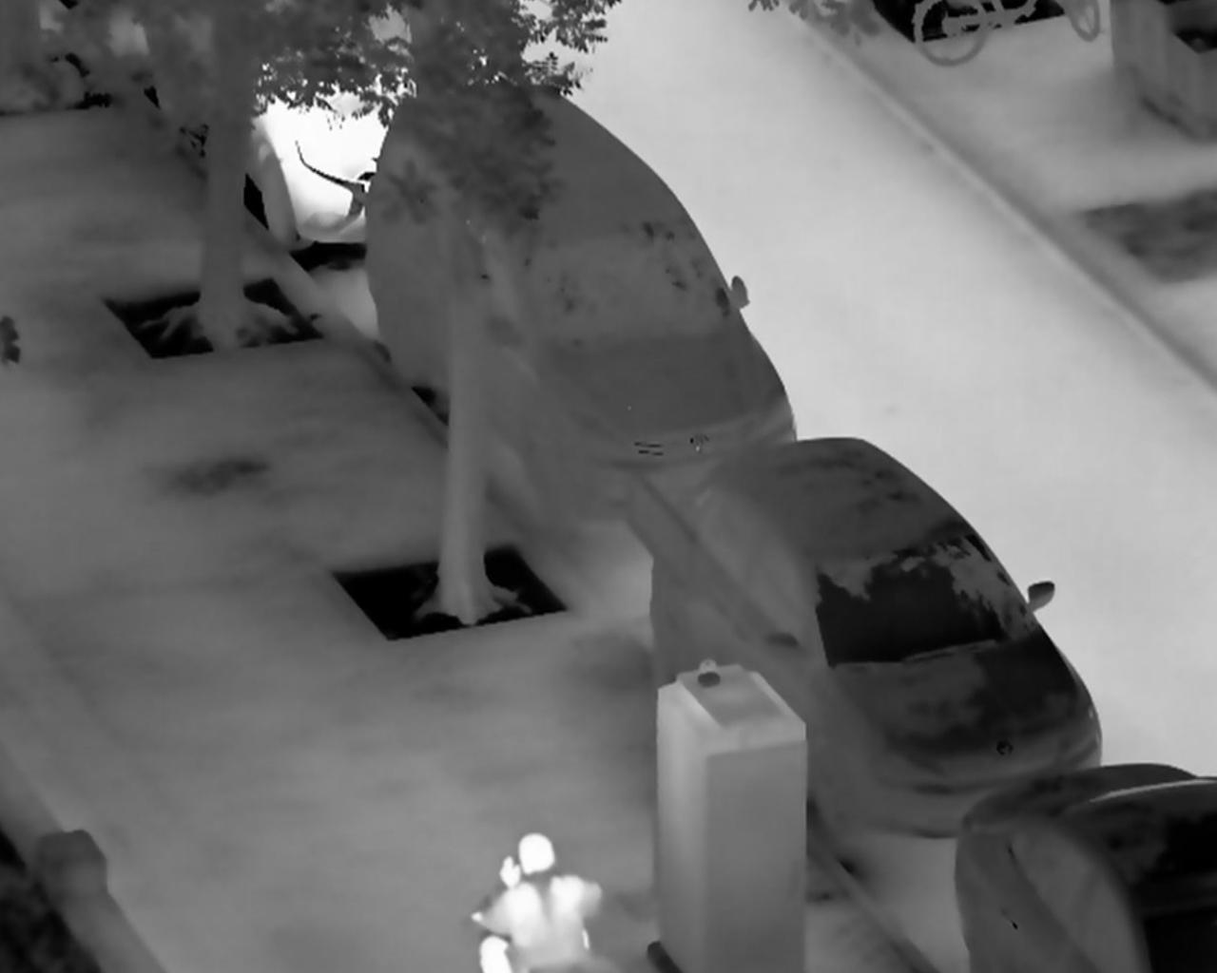person: (467, 832, 603, 973)
